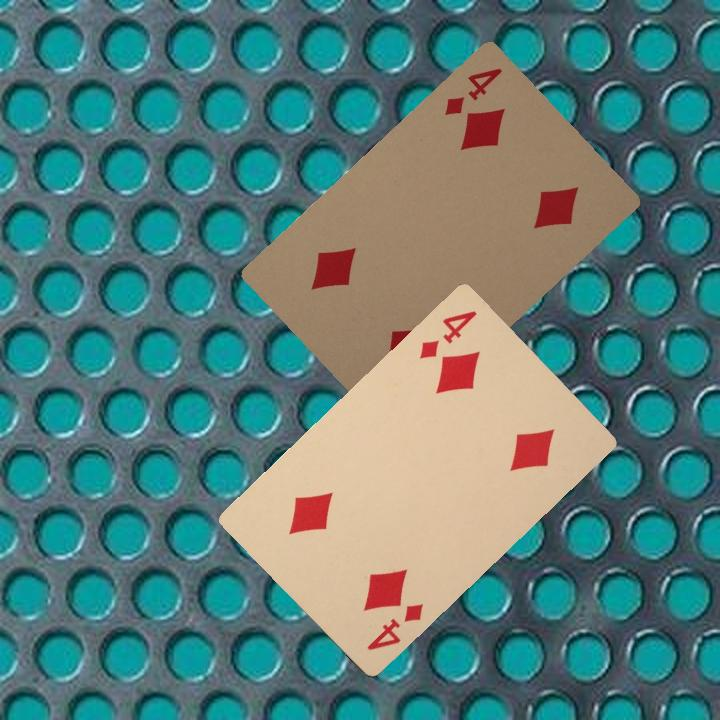4d: (440, 63, 505, 119), (415, 306, 480, 362), (363, 599, 426, 653)
